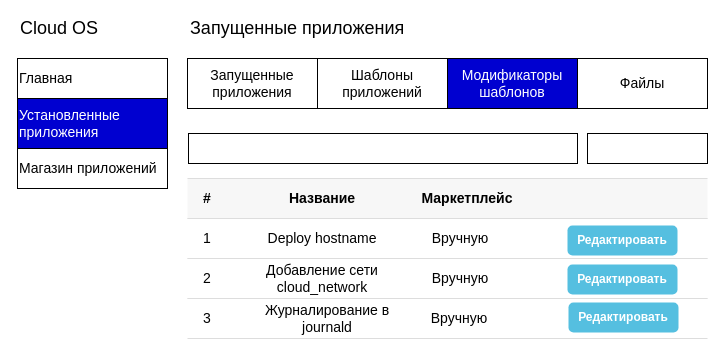
This 725x356 diagram has some shape labels left out. The box of each missing label's shape, as (x1, y1, x2, y2) in pixels:
Все магазины: (586, 132, 708, 164)
модификатор шаблона: (188, 132, 578, 164)
